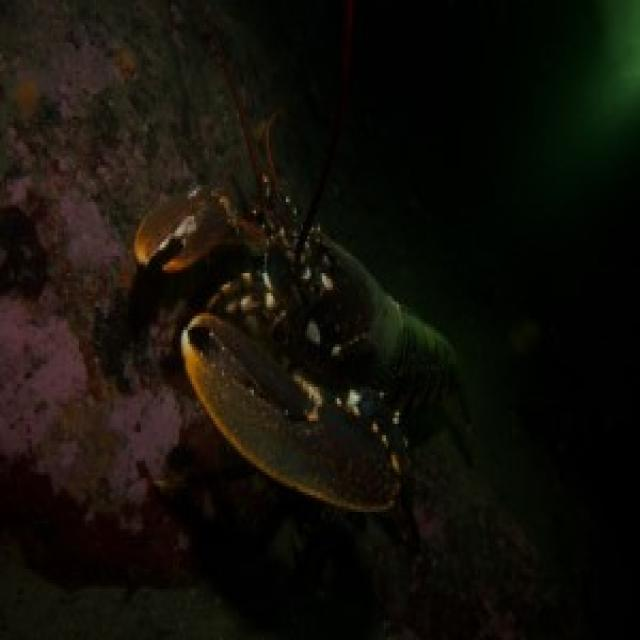lobsters: (121, 166, 554, 568)
